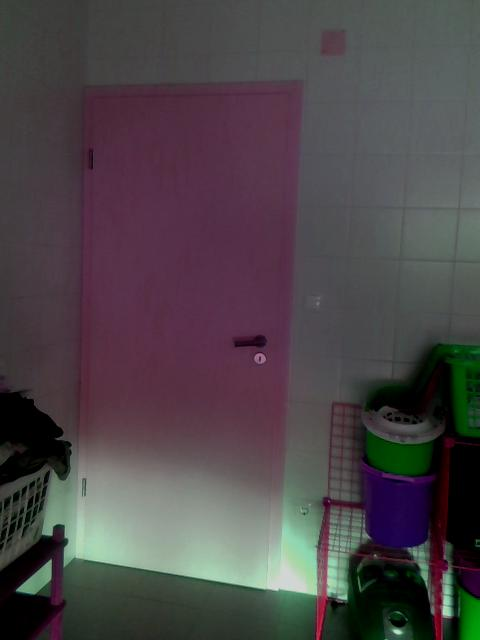closed_door: (72, 83, 302, 610)
